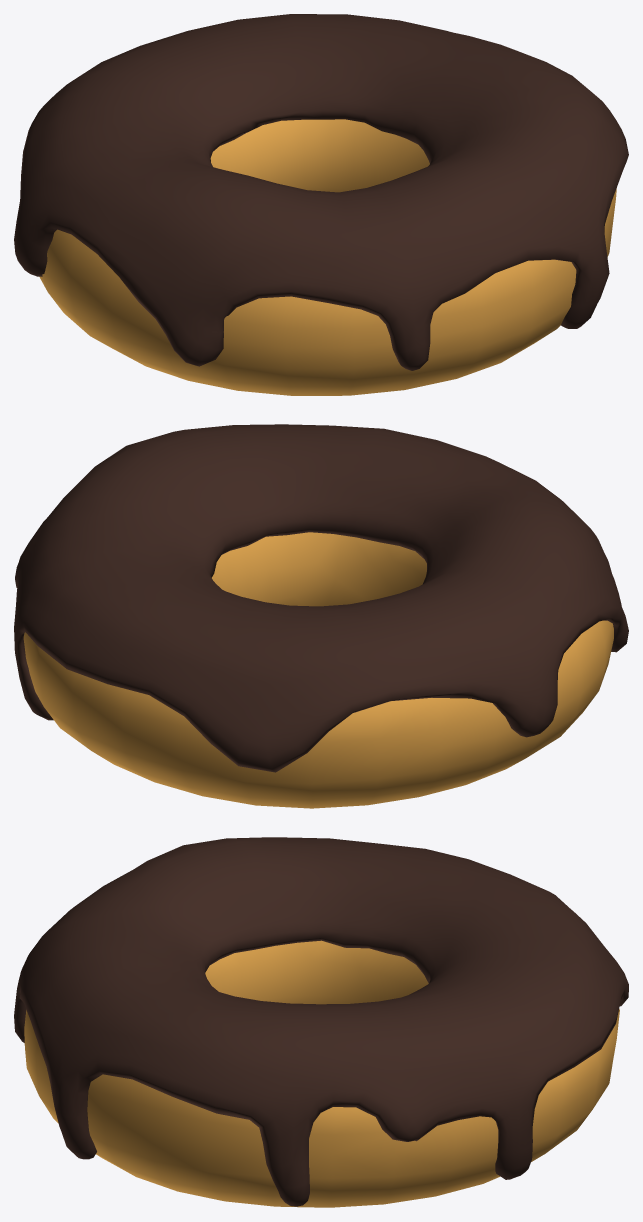
Rendered from Donut.fbx.
3 views of the same model, one above another, from view 1: azimuth 30°, elevation 25°; view 2: azimuth 150°, elevation 25°; view 3: azimuth 270°, elevation 25° (orthographic).
Visible parts, largest first — view 1: Donut; view 2: Donut; view 3: Donut.
Part boxes in pixels (bbox=[...]): Donut: bbox=[14, 14, 628, 395]; Donut: bbox=[14, 424, 628, 808]; Donut: bbox=[14, 837, 628, 1207].
Bounding box in the file's own units: 299 × 105 × 303.
